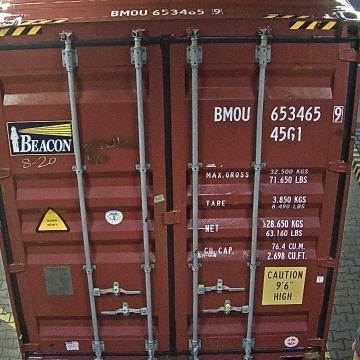serial_id: (214, 105, 343, 120)
